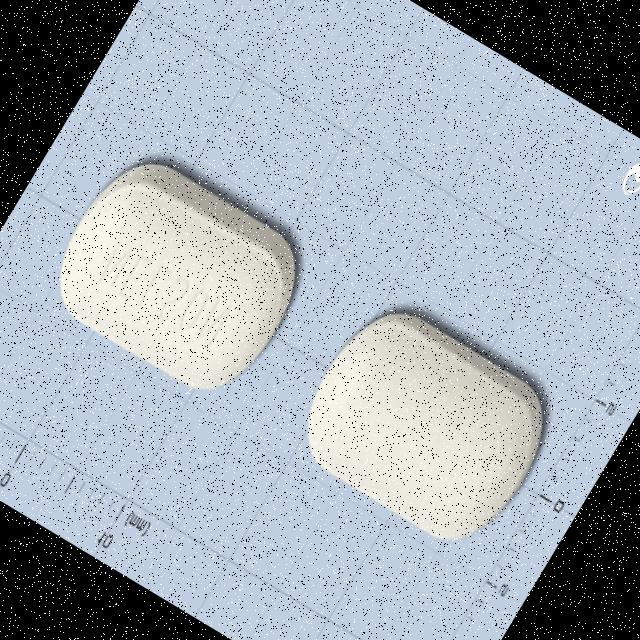Ciproctan: (29, 134, 331, 424), (276, 282, 576, 568)
